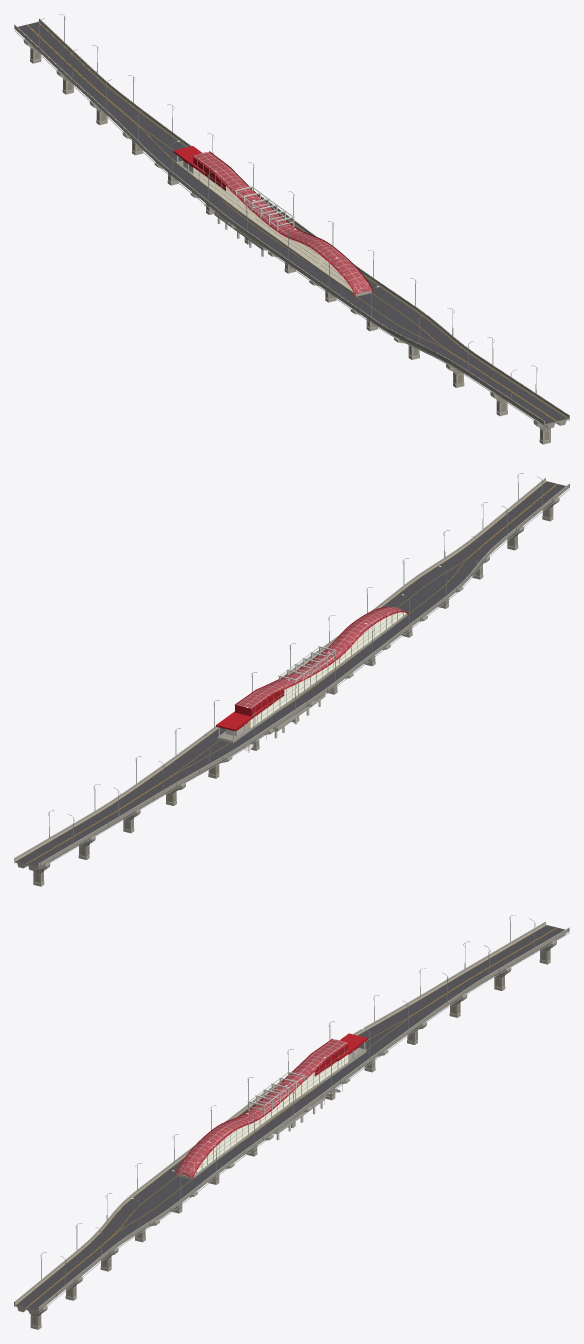
File: murree_road_metro.glb
The picture shows the model from 3 angles, top to bottom: view 1: azimuth 30°, elevation 25°; view 2: azimuth 150°, elevation 25°; view 3: azimuth 330°, elevation 25°; orthographic projection. The views are drawn at different scales.
Visible parts, largest first — view 1: m_road_asphalt, m_deck_concrete, m_roof_tile, m_pier_concrete, m_hall_glass, m_steel_white, m_trim_red, m_line_yellow, m_pole_steel, m_parapet_concrete, m_balustrade, m_pier_panel; view 2: m_road_asphalt, m_deck_concrete, m_roof_tile, m_pier_concrete, m_hall_glass, m_steel_white, m_trim_red, m_line_yellow, m_pole_steel, m_parapet_concrete, m_balustrade, m_pier_panel; view 3: m_road_asphalt, m_deck_concrete, m_roof_tile, m_pier_concrete, m_hall_glass, m_steel_white, m_trim_red, m_line_yellow, m_pole_steel, m_parapet_concrete, m_balustrade, m_pier_panel.
Part boxes in pixels (x1,y1,x2,y2): m_road_asphalt: (18,22,567,423); m_deck_concrete: (14,18,569,428); m_roof_tile: (193,152,372,295); m_pier_concrete: (23,39,555,444); m_hall_glass: (193,168,353,291); m_steel_white: (177,155,351,290); m_trim_red: (173,146,372,295); m_line_yellow: (27,22,567,421); m_pole_steel: (38,14,537,399); m_parapet_concrete: (18,23,543,422); m_balustrade: (14,30,569,426); m_pier_panel: (31,50,549,440); m_road_asphalt: (16,481,565,866); m_deck_concrete: (14,478,569,870); m_roof_tile: (236,607,404,708); m_pier_concrete: (33,497,559,886); m_hall_glass: (250,612,406,727); m_steel_white: (218,612,403,752); m_trim_red: (216,607,408,731); m_line_yellow: (16,481,557,866); m_pole_steel: (48,473,543,843); m_parapet_concrete: (22,484,568,864); m_balustrade: (14,489,569,869); m_pier_panel: (35,508,552,882); m_road_asphalt: (16,925,564,1310); m_deck_concrete: (14,921,569,1314); m_roof_tile: (176,1039,348,1178); m_pier_concrete: (27,941,556,1329); m_hall_glass: (194,1055,348,1174); m_steel_white: (196,1042,365,1174); m_trim_red: (175,1033,367,1179); m_line_yellow: (16,925,557,1310); m_pole_steel: (40,915,535,1285); m_parapet_concrete: (43,932,561,1308); m_balustrade: (14,933,569,1312); m_pier_panel: (32,951,549,1325).
Size of the model in its own units: 24.12 by 21.83 by 352.
17 materials, 1 textured.
